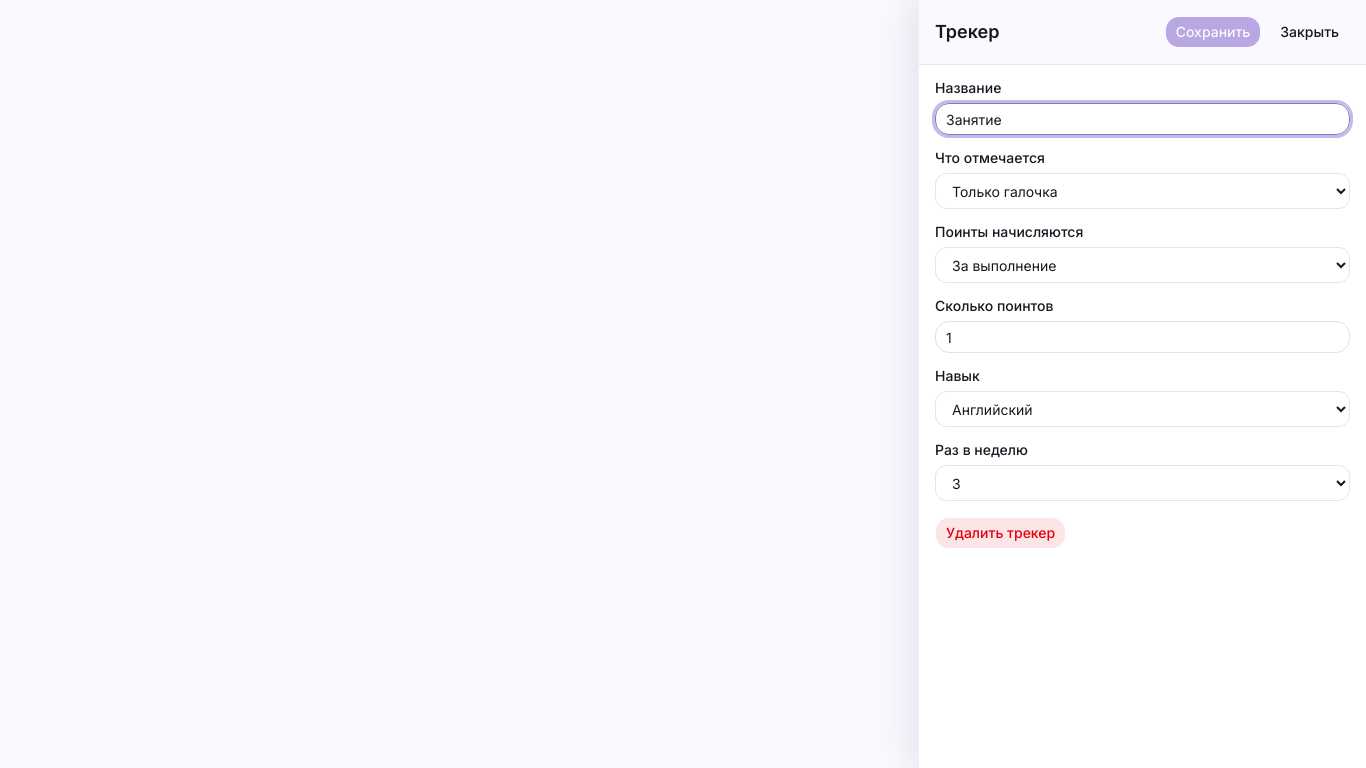
Test: TrackerDrawer › удаление называет, сколько отметок унесёт
This screenshot has width=1366, height=768.
Click the button "Удалить трекер". click: [1001, 533]
box: [935,517,1066,549]
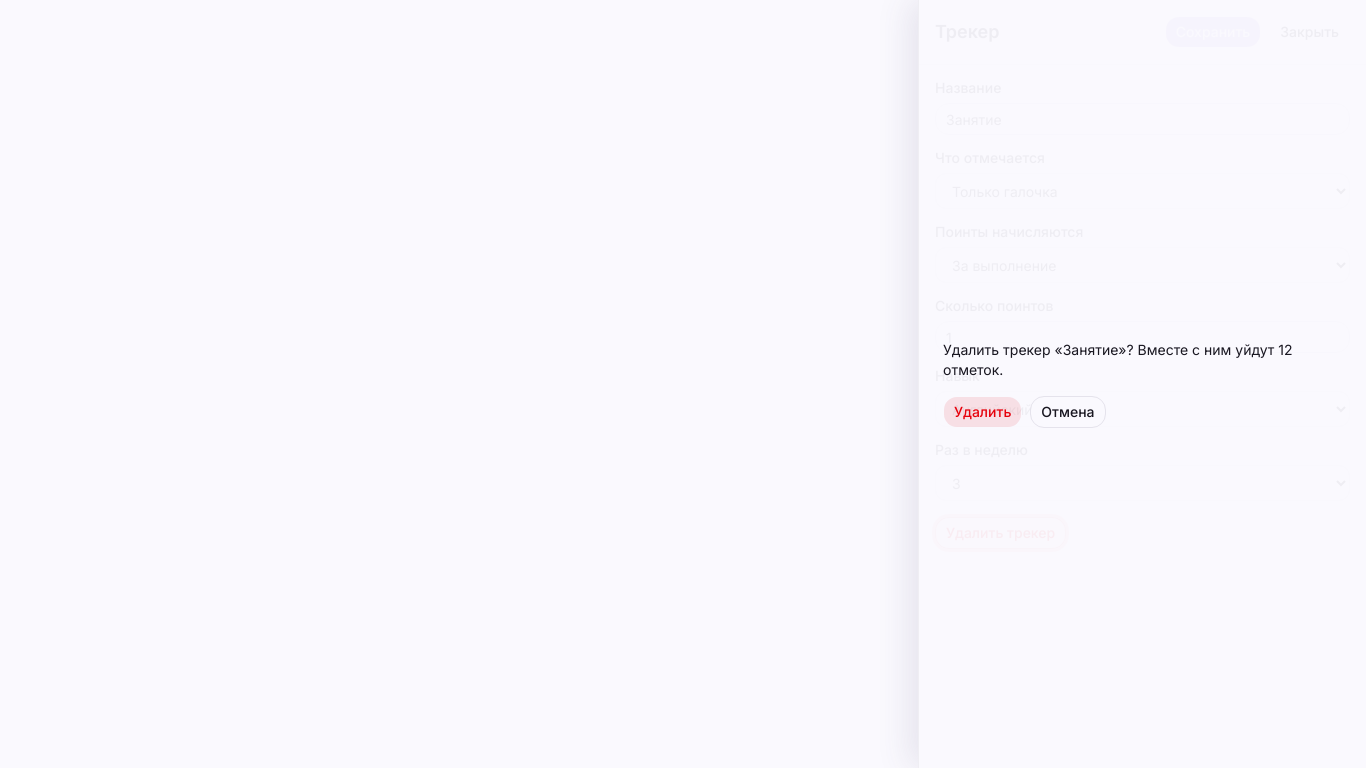
Expected: the dialog shows "уйдут 12 отметок", [943,341,1292,378]
